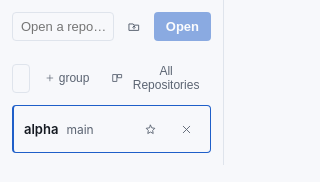
Test: Browse fills the open field with the picked folder and starts the dialog in the active repo's parent
The width and height of the screenshot is (320, 182).
What coordinates should you click on to do the following:
click the button named "Browse for a repository folder"
I would click on:
 (134, 26)
Its box is [120,12,148,41].
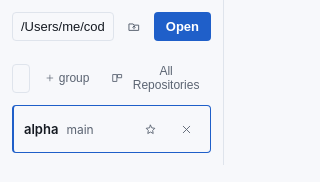
Result: the field with placeholder "Open a repo… (path)" holds "/Users/me/code/new-repo" at [12,12,114,41]
